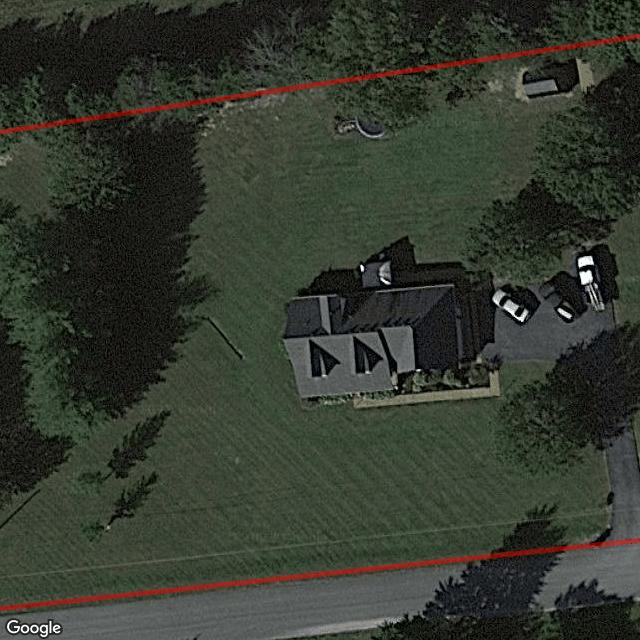Driveway: (468, 250, 640, 541), (352, 372, 499, 409)
House: (280, 281, 467, 400)
